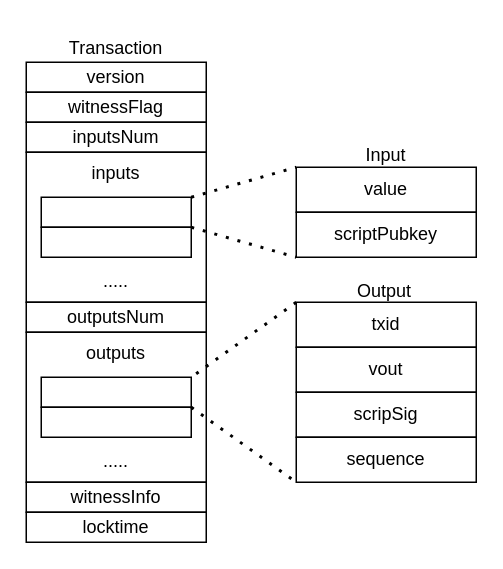
The diagram is 503 pixels wide and 569 high, and some of its shapes have lost their labels. Each missing label, with the centre of its shape:
"input1" goes at point (115, 211).
"input2" goes at point (115, 241).
"output1" goes at point (115, 391).
"output2" goes at point (115, 421).
